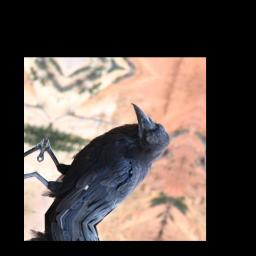Crow: (25, 87, 182, 237)
